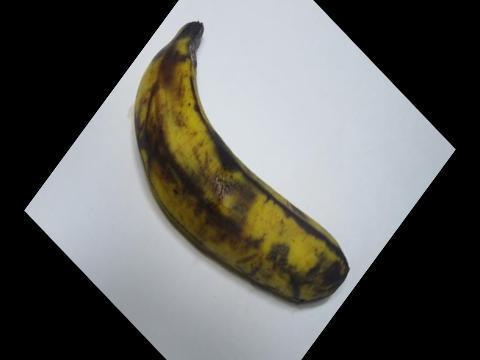overripe: (128, 10, 359, 303)
